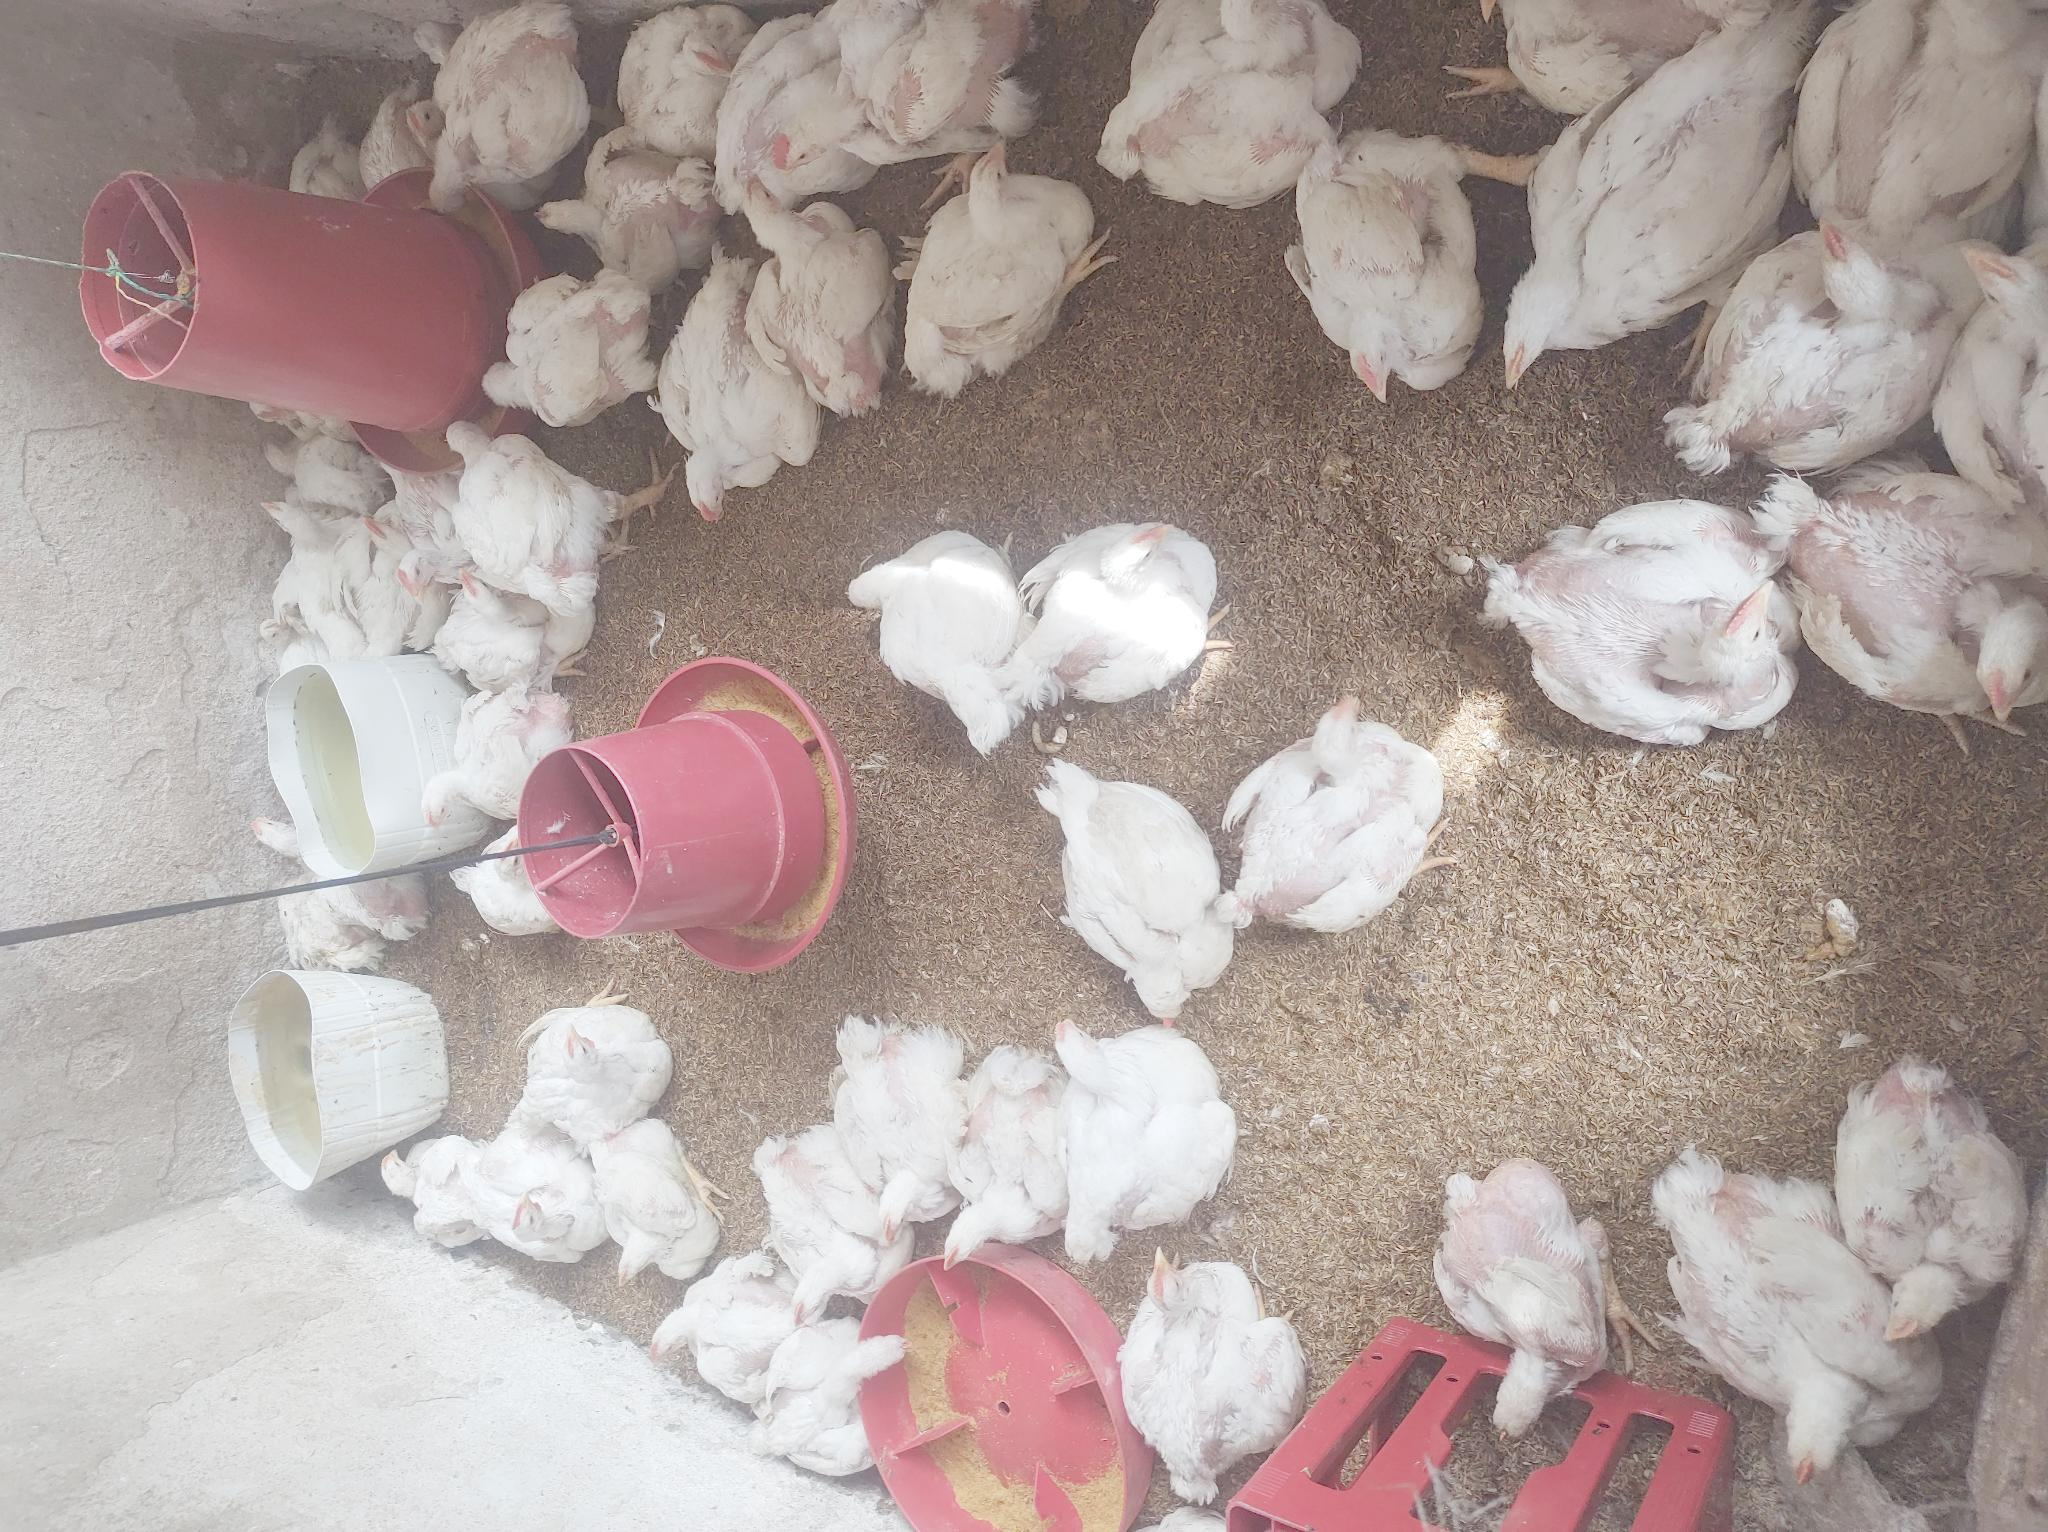Pollos: (1490, 24, 1808, 394), (1667, 1167, 1951, 1495), (1475, 489, 1795, 763), (1766, 438, 2048, 740), (1404, 1152, 1639, 1448), (1696, 208, 1939, 475), (1800, 0, 2048, 259), (1829, 1056, 2048, 1334), (1298, 132, 1511, 407), (1226, 698, 1454, 945), (893, 138, 1104, 393), (1112, 1241, 1298, 1514), (1038, 760, 1232, 1019), (840, 525, 1038, 763), (1108, 0, 1327, 209), (1059, 1007, 1239, 1254), (660, 277, 820, 528), (1034, 512, 1226, 719), (734, 163, 893, 410), (436, 417, 640, 600), (1910, 232, 2048, 489), (233, 800, 417, 991), (930, 1044, 1063, 1278), (470, 259, 655, 426), (745, 1118, 911, 1303), (719, 14, 874, 208), (533, 130, 718, 286), (763, 1310, 911, 1501), (415, 11, 574, 188), (837, 1028, 970, 1236), (849, 0, 1018, 163), (581, 1115, 729, 1279), (417, 679, 581, 821), (528, 991, 681, 1143), (652, 1242, 779, 1398), (619, 10, 750, 159), (376, 1118, 497, 1273), (483, 1122, 602, 1270), (442, 816, 574, 945), (433, 563, 550, 686), (368, 462, 444, 591), (256, 500, 364, 574), (351, 85, 415, 200), (278, 119, 352, 217), (251, 605, 335, 689), (262, 438, 351, 488), (245, 383, 315, 438), (364, 500, 402, 558)
